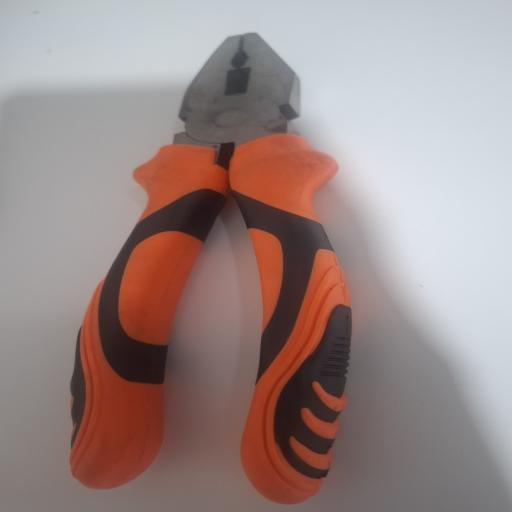alicate: (64, 33, 352, 502)
